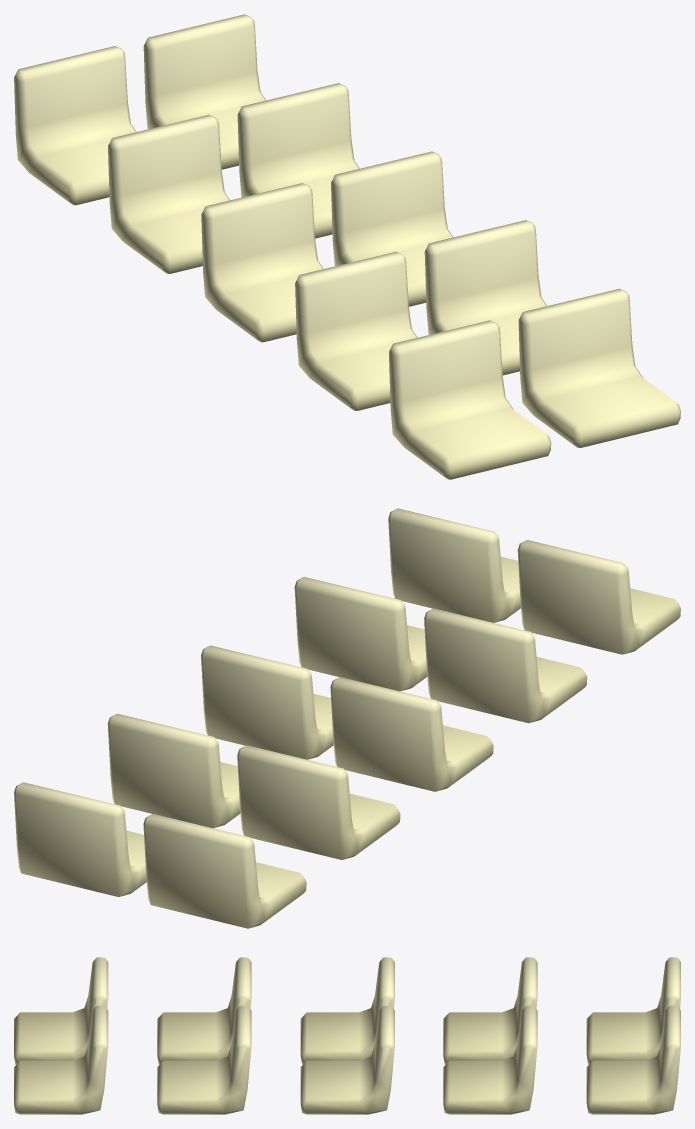
File: bus_open.fbx
3 renders of one model, top to bottom at view 1: azimuth 30°, elevation 25°; view 2: azimuth 150°, elevation 25°; view 3: azimuth 270°, elevation 25°, orthographic. The views are drawn at different scales.
Parts seen in each view (by area): view 1: bus_open; view 2: bus_open; view 3: bus_open.
Part boxes in pixels (x1,y1,x2,y2): bus_open: (14, 14, 680, 479); bus_open: (14, 508, 680, 928); bus_open: (14, 957, 680, 1114).
Size of the model in its own units: 46.08 by 17.82 by 148.
